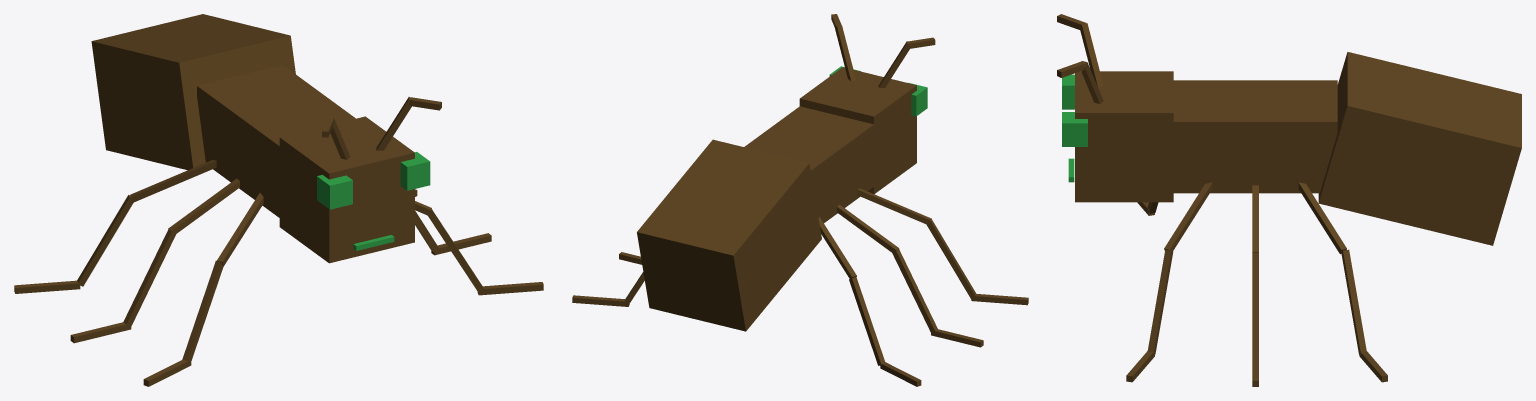
File: ExplorerAnt.fbx
3 renders of one model, left to right at view 1: azimuth 30°, elevation 25°; view 2: azimuth 150°, elevation 25°; view 3: azimuth 270°, elevation 25°, orthographic. The views are drawn at different scales.
Parts seen in each view (by area): view 1: Cube.001, Cube.022, Cube.023; view 2: Cube.001, Cube.022; view 3: Cube.001, Cube.023, Cube.022.
Part boxes in pixels (box(x1,y1,x2,y2)): Cube.001: box(14, 14, 543, 386); Cube.022: box(317, 175, 352, 209); Cube.023: box(400, 152, 430, 190); Cube.001: box(572, 14, 1028, 386); Cube.022: box(908, 82, 927, 116); Cube.001: box(1057, 14, 1521, 386); Cube.023: box(1062, 112, 1087, 146); Cube.022: box(1062, 74, 1074, 109).
Size of the model in its own units: 175 by 98.59 by 170.
